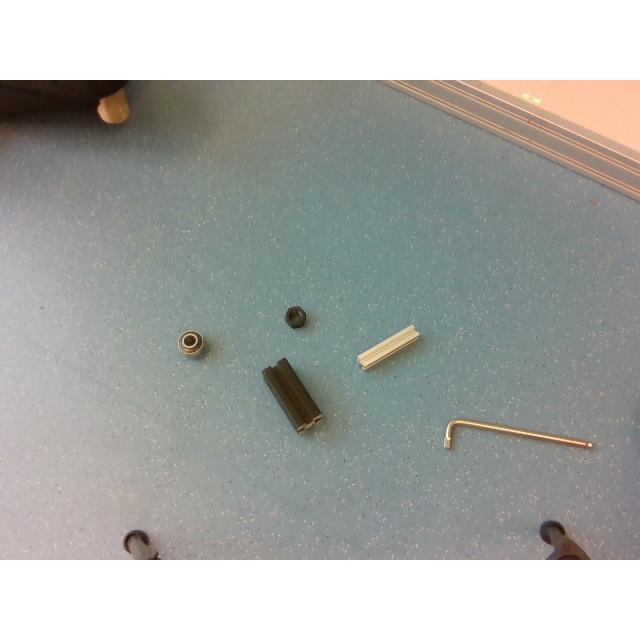AllenKey: (443, 419, 592, 449)
Bearing2: (178, 330, 202, 354)
F20_20_G: (358, 326, 420, 370)
M20: (286, 306, 306, 328)
S40_40_B: (262, 358, 322, 432)
